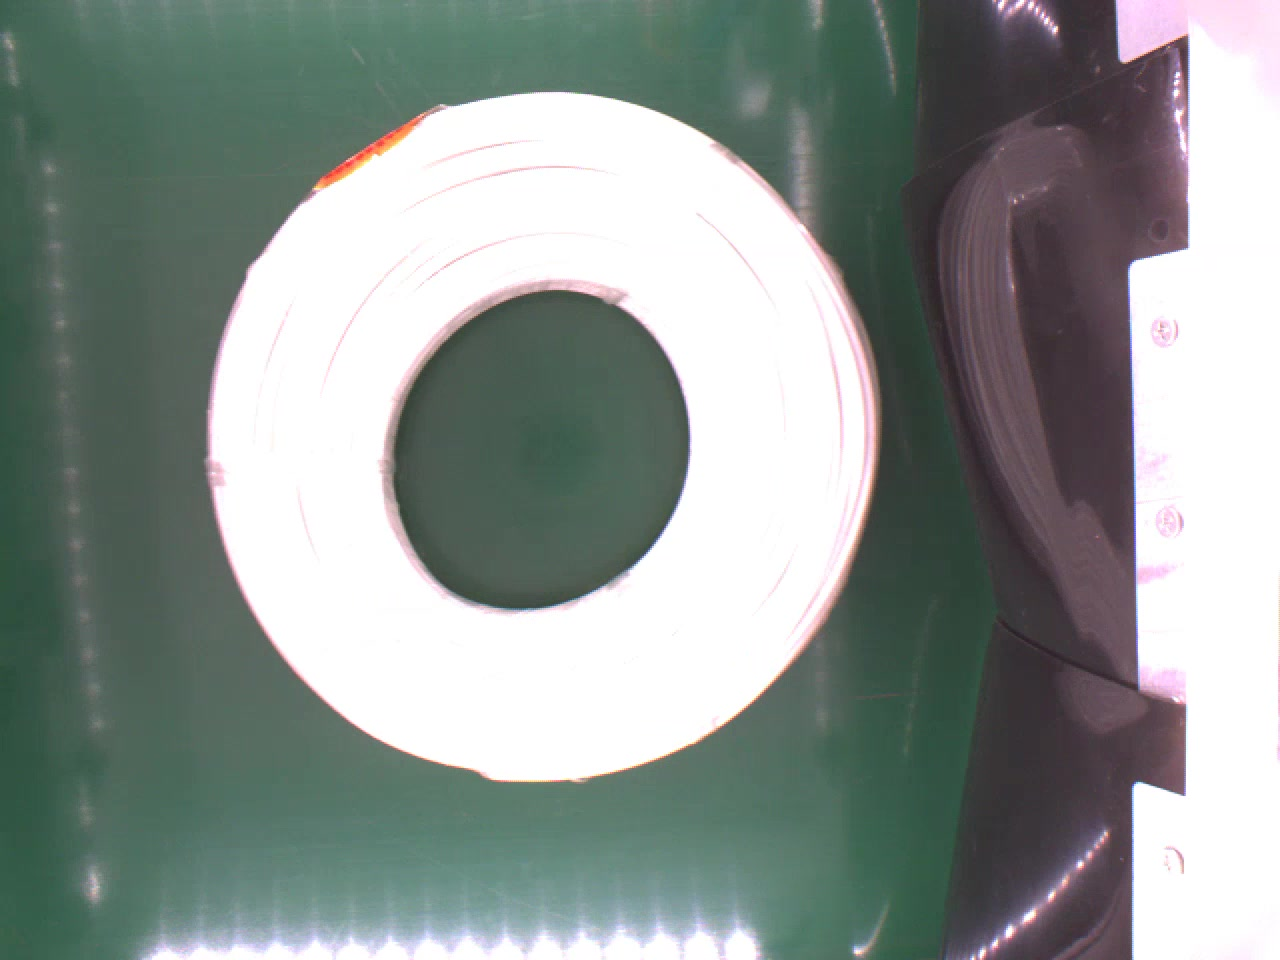white: (203, 84, 895, 793)
